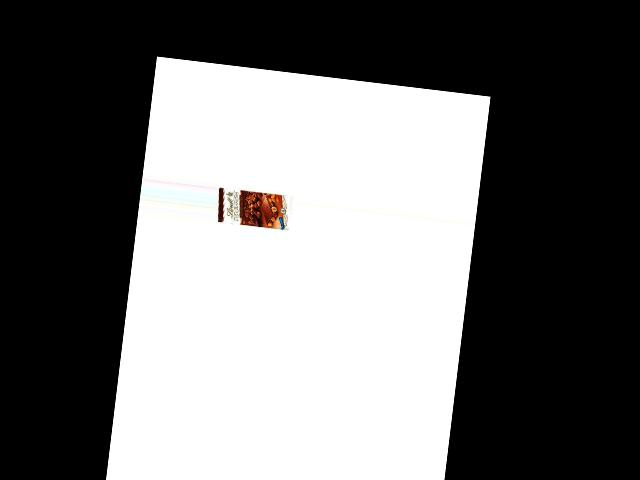chocolate: (217, 182, 289, 232)
